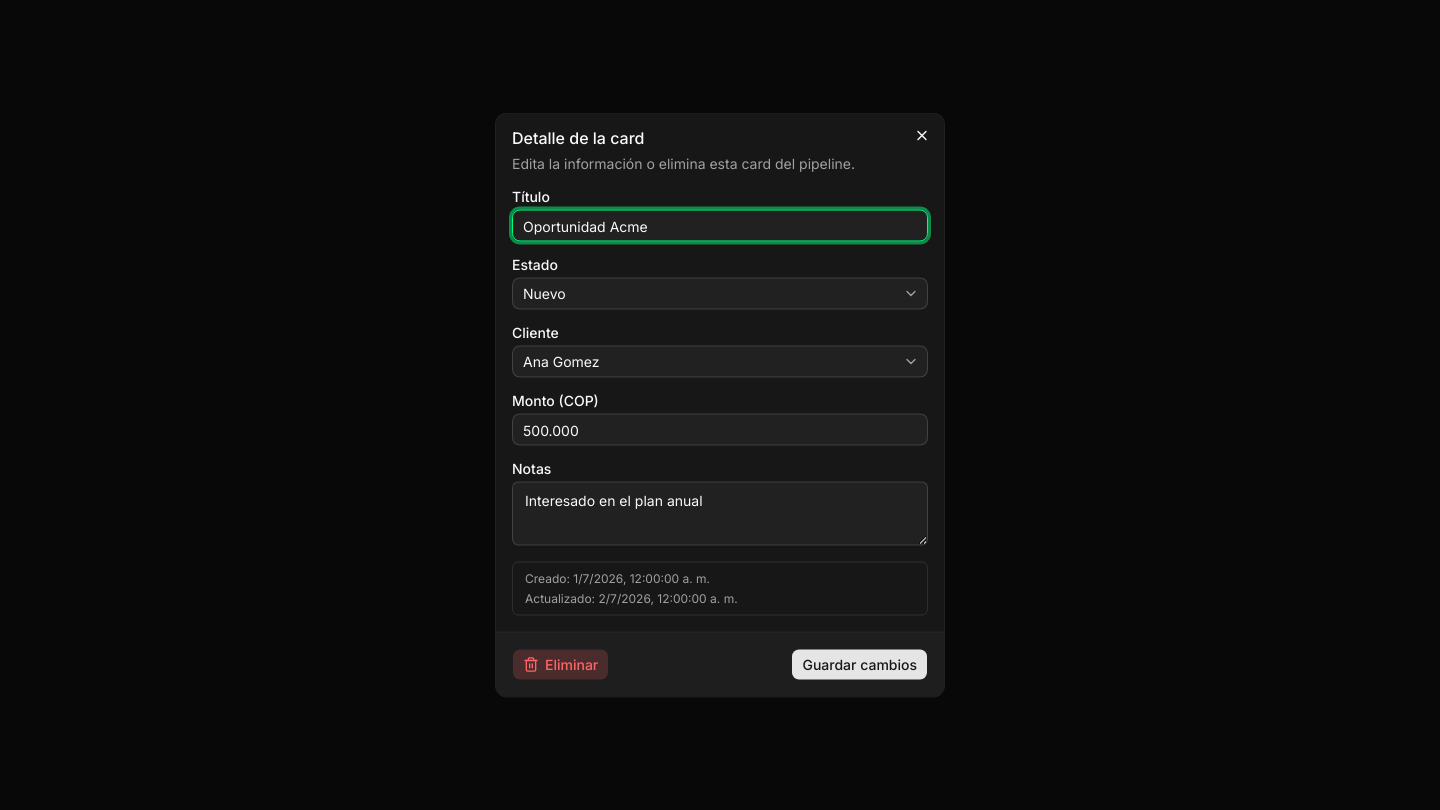
Test case: CardDetailDialogContent › shows a delete error and keeps the dialog open when the DELETE fails
Click the button "Eliminar" at (561, 664), box [512, 648, 609, 680]
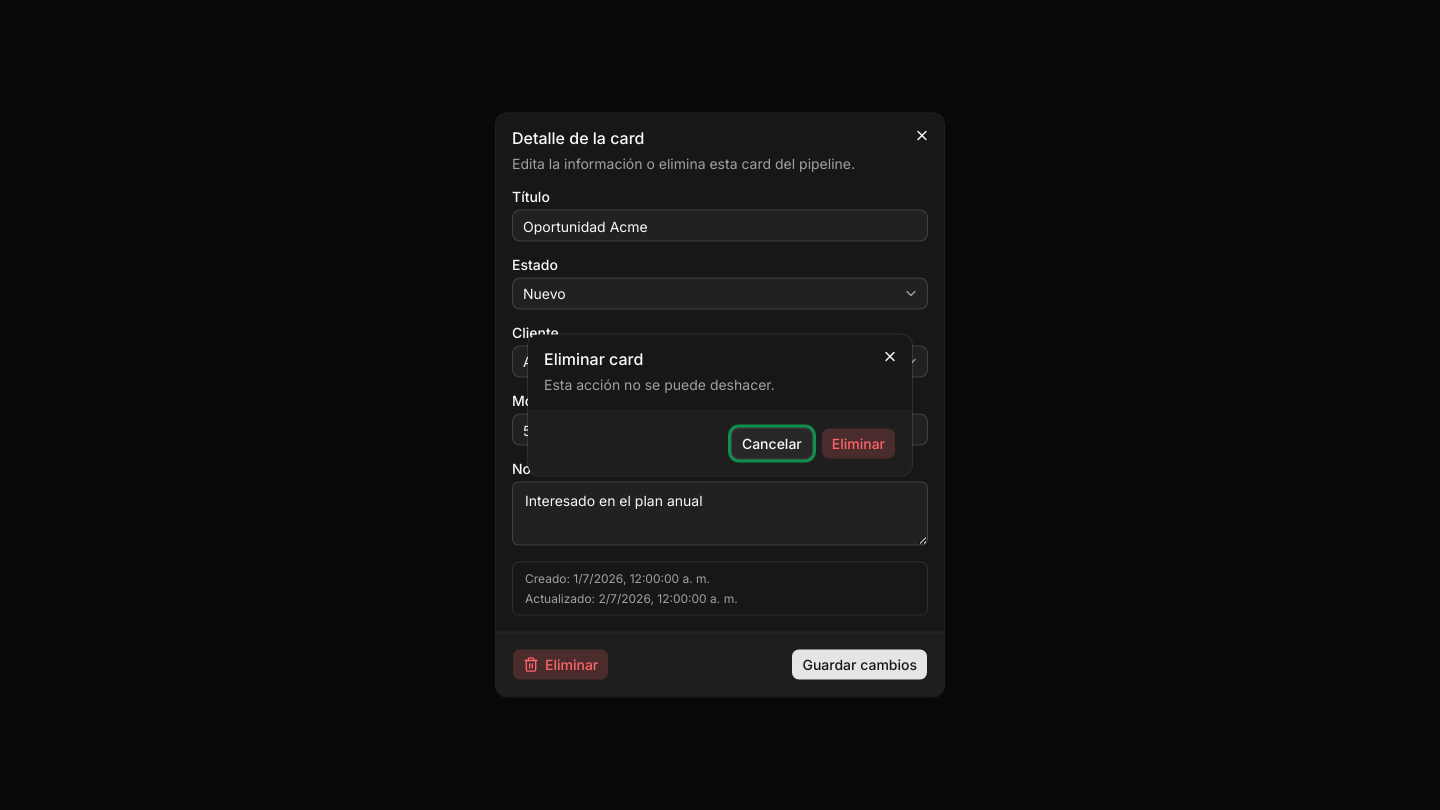
Click the button "Eliminar" below "Esta acción no se puede deshacer." at (858, 444), box [821, 428, 896, 460]
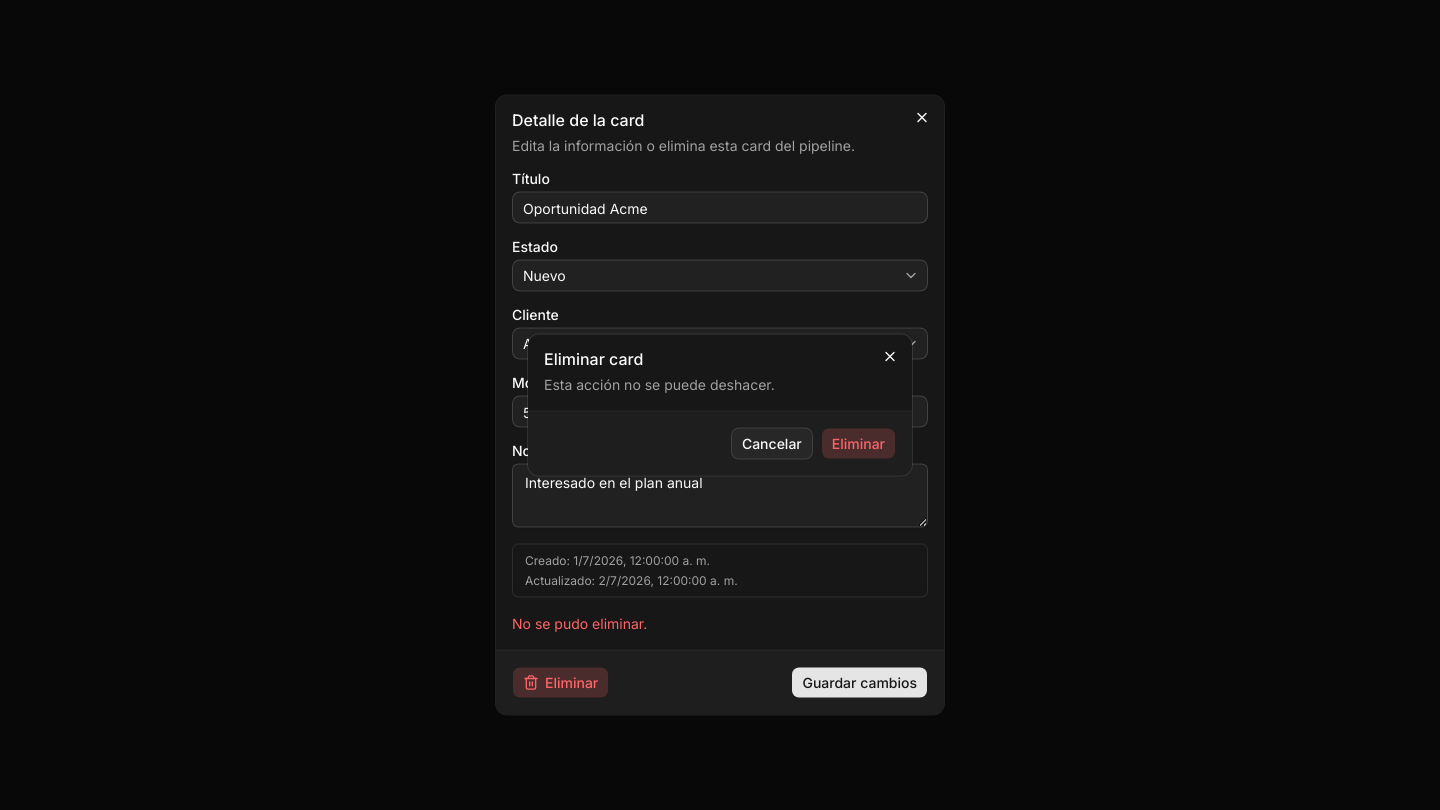
Now the message reads "No se pudo eliminar.", box [512, 614, 647, 632]
